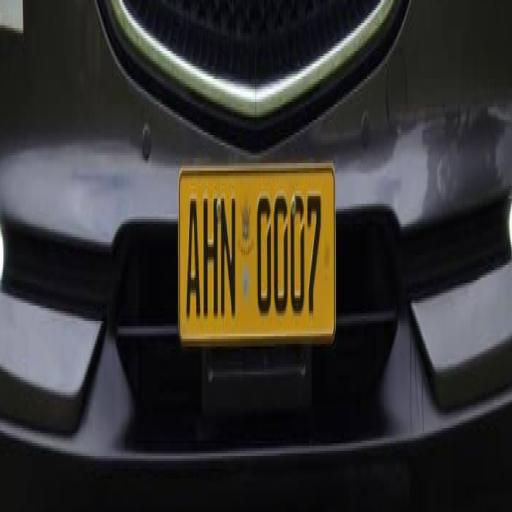number-plates: (180, 179, 327, 335)
